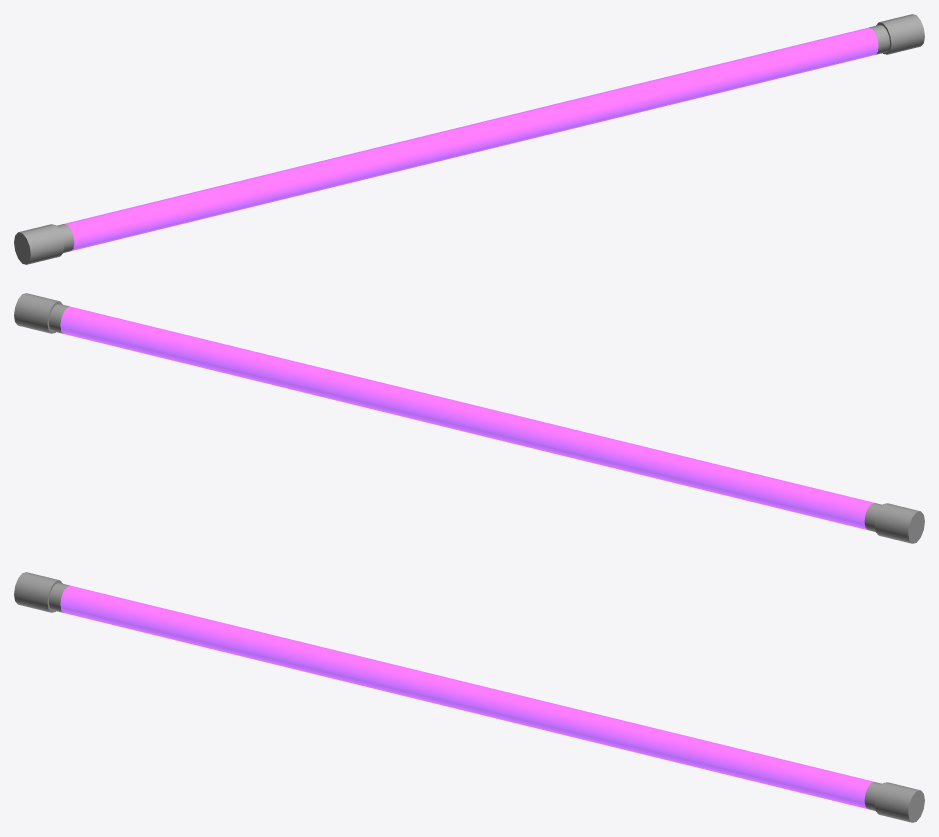
The model's file is UV Light.fbx.
3 renders of one model, top to bottom at view 1: azimuth 30°, elevation 25°; view 2: azimuth 150°, elevation 25°; view 3: azimuth 330°, elevation 25°, orthographic.
Visible parts, largest first — view 1: pCylinder8; view 2: pCylinder8; view 3: pCylinder8.
Boxes of the visible parts, bbox=[...] form: pCylinder8: bbox=[14, 14, 924, 264]; pCylinder8: bbox=[14, 293, 924, 543]; pCylinder8: bbox=[14, 572, 924, 822].
Size of the model in its own units: 1.19 by 0.0387 by 0.0387.
